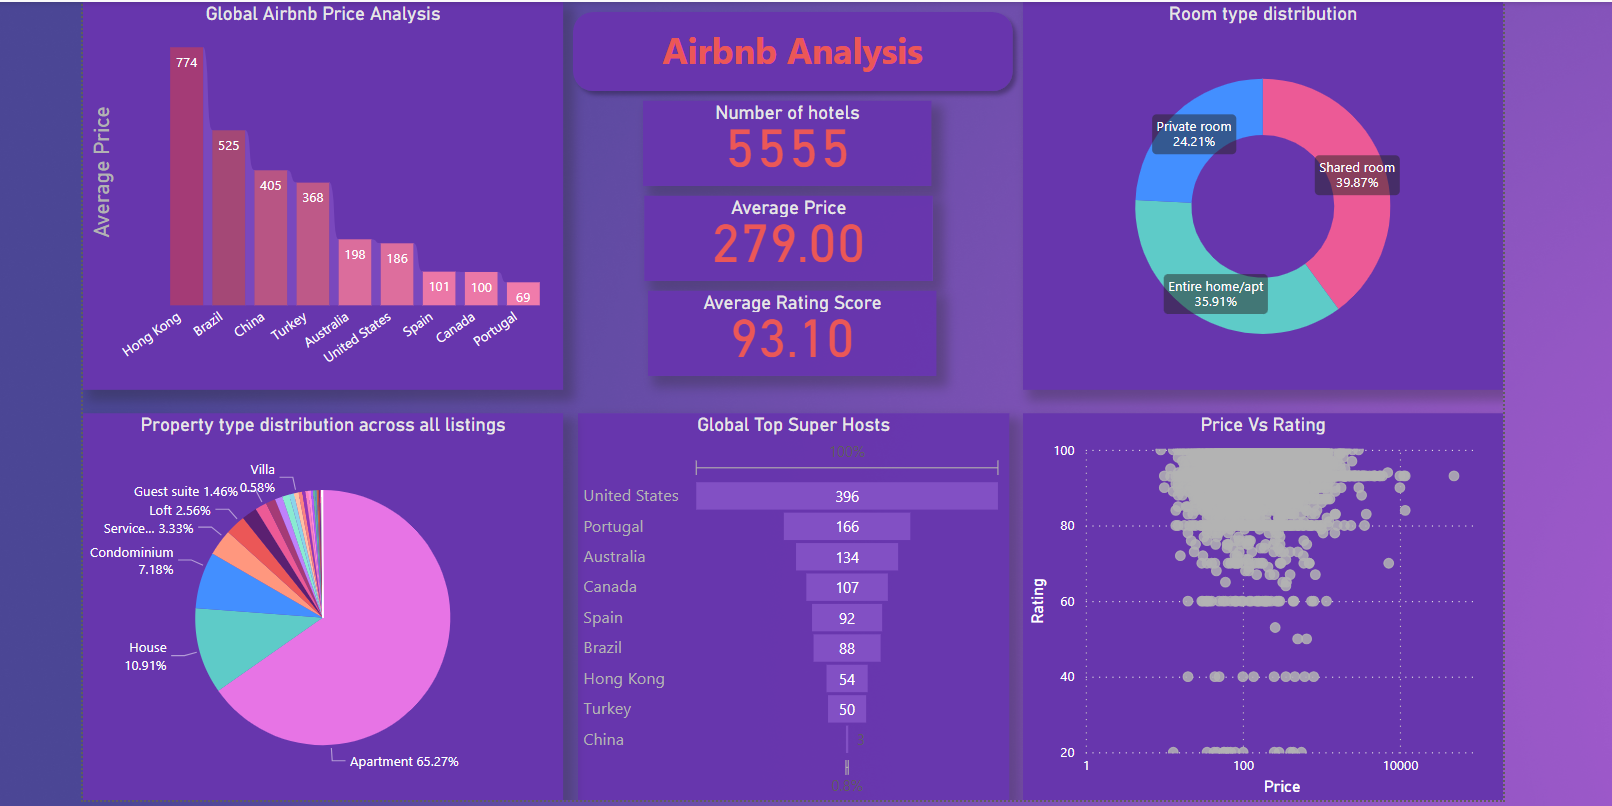

What the dashboard file says about the page in this screenshot:
{"tool":"powerbi","page":{"name":"Page 1","canvas":[1280,720],"ordinal":0},"visuals":[{"type":"columnChart","title":"Global Airbnb Price Analysis","fields":{"Category":["airbnb.country"],"Y":["airbnb.Average_price"]},"box":[0,0,432.7,349.6],"z":0},{"type":"funnel","title":"Global Top Super Hosts","fields":{"Category":["airbnb.country"],"Y":["airbnb.Count of _id for True"]},"box":[446.2,370.4,388.7,349.6],"z":1000},{"type":"pieChart","title":"Property type distribution across all listings","fields":{"Category":["airbnb.property_type"],"Y":["Count(airbnb._id)"]},"box":[0,370.4,432.7,349.6],"z":1001},{"type":"shape","box":[432.7,0,414.4,89.2],"z":1002},{"type":"textbox","box":[480.4,17.1,319,55],"z":1003},{"type":"donutChart","title":"Room type distribution","fields":{"Y":["Avg(airbnb.price)"],"Category":["airbnb.room_type"]},"box":[847.1,0,432.7,349.6],"z":1005},{"type":"scatterChart","title":"Price Vs Rating","fields":{"X":["airbnb.price"],"Y":["airbnb.rating_score"]},"box":[847.1,370.4,432.7,349.6],"z":1006},{"type":"card","title":"Number of hotels","fields":{"Values":["Count(airbnb._id)"]},"box":[504.9,89.2,260.4,77],"z":1007},{"type":"card","title":"Average Price ","fields":{"Values":["airbnb.Average_price"]},"box":[506.1,174.8,260.4,77],"z":1008},{"type":"card","title":"Average Rating Score","fields":{"Values":["Avg(airbnb.rating_score)"]},"box":[509.7,260.4,260.4,77],"z":1009}]}

Visuals, with their boxes on the page's 1280x720 design canvas (x1, y1, x2, y2). These are canvas units, not pixel positions in the 1612x806 screenshot, which may show the page scaled, cropped or inside an application window:
"Global Airbnb Price Analysis" columnChart: (0,0,433,350)
"Global Top Super Hosts" funnel: (446,370,835,720)
"Property type distribution across all listings" pieChart: (0,370,433,720)
shape: (433,0,847,89)
textbox: (480,17,799,72)
"Room type distribution" donutChart: (847,0,1280,350)
"Price Vs Rating" scatterChart: (847,370,1280,720)
"Number of hotels" card: (505,89,765,166)
"Average Price " card: (506,175,766,252)
"Average Rating Score" card: (510,260,770,337)
